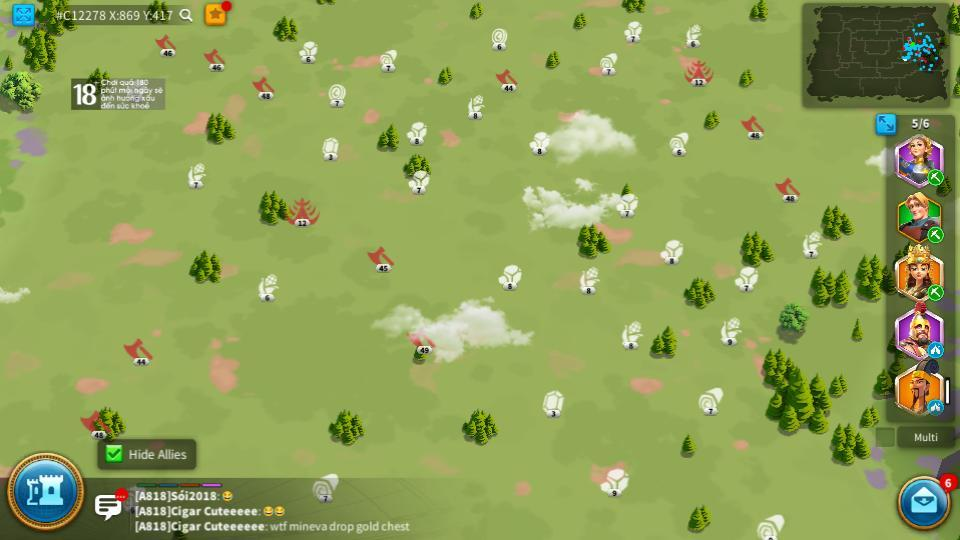gem-z-out: (540, 391, 565, 417), (320, 138, 339, 160)
march_idle: (927, 402, 944, 414), (929, 343, 942, 356)
march_marching: (928, 286, 942, 300), (929, 231, 942, 242), (928, 175, 941, 186)
